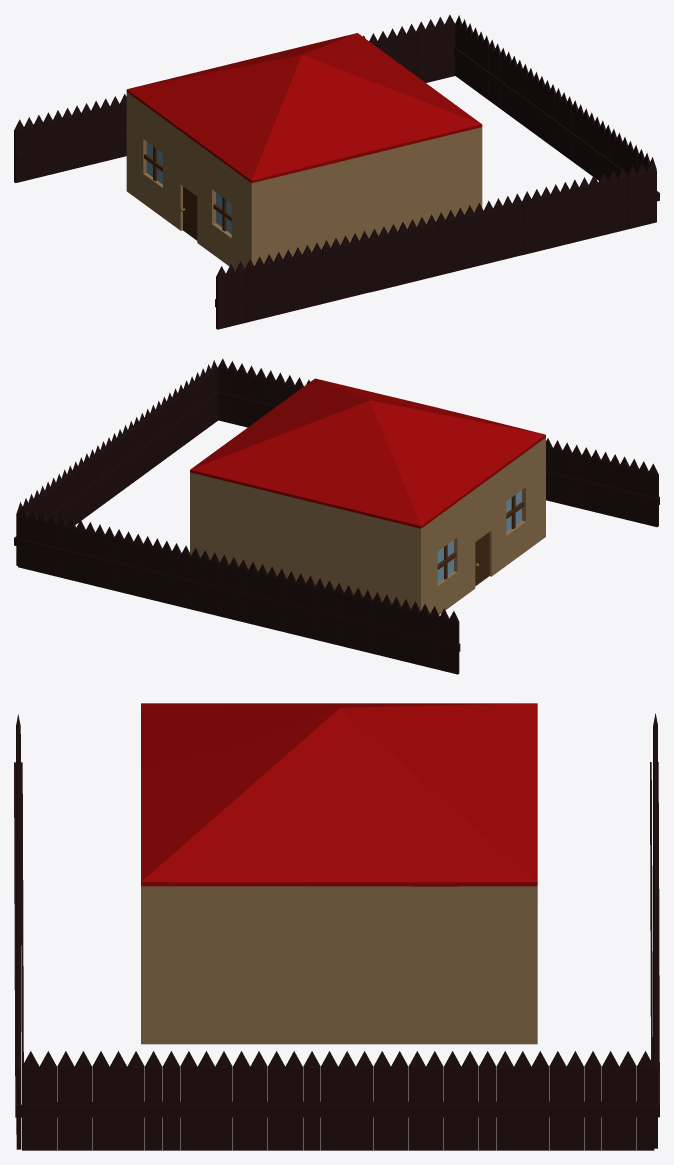
Rendered from House.fbx.
The picture shows the model from 3 angles, top to bottom: view 1: azimuth 30°, elevation 25°; view 2: azimuth 150°, elevation 25°; view 3: azimuth 270°, elevation 25°; orthographic projection. The views are drawn at different scales.
Parts seen in each view (by area): view 1: polySurface148; view 2: polySurface148; view 3: polySurface148.
Boxes of the visible parts, x1,y1,x2,y2 form: polySurface148: (14,14,659,329); polySurface148: (14,358,659,674); polySurface148: (14,703,659,1150).
Size of the model in its own units: 13.85 by 4.62 by 11.
